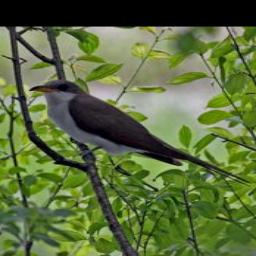Cuckoo: (25, 79, 247, 187)
